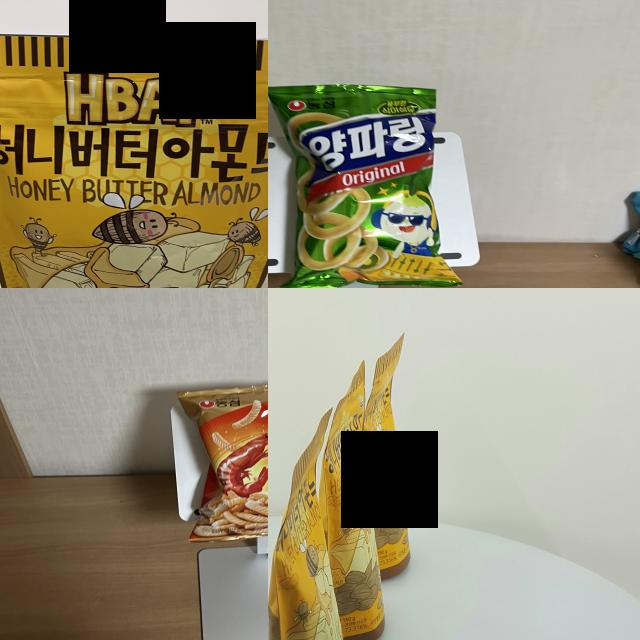honeyAmond: (0, 33, 268, 288), (326, 383, 377, 638), (277, 461, 340, 640)
onionRing: (296, 91, 434, 278)
shrimpGGang: (186, 386, 268, 535)
